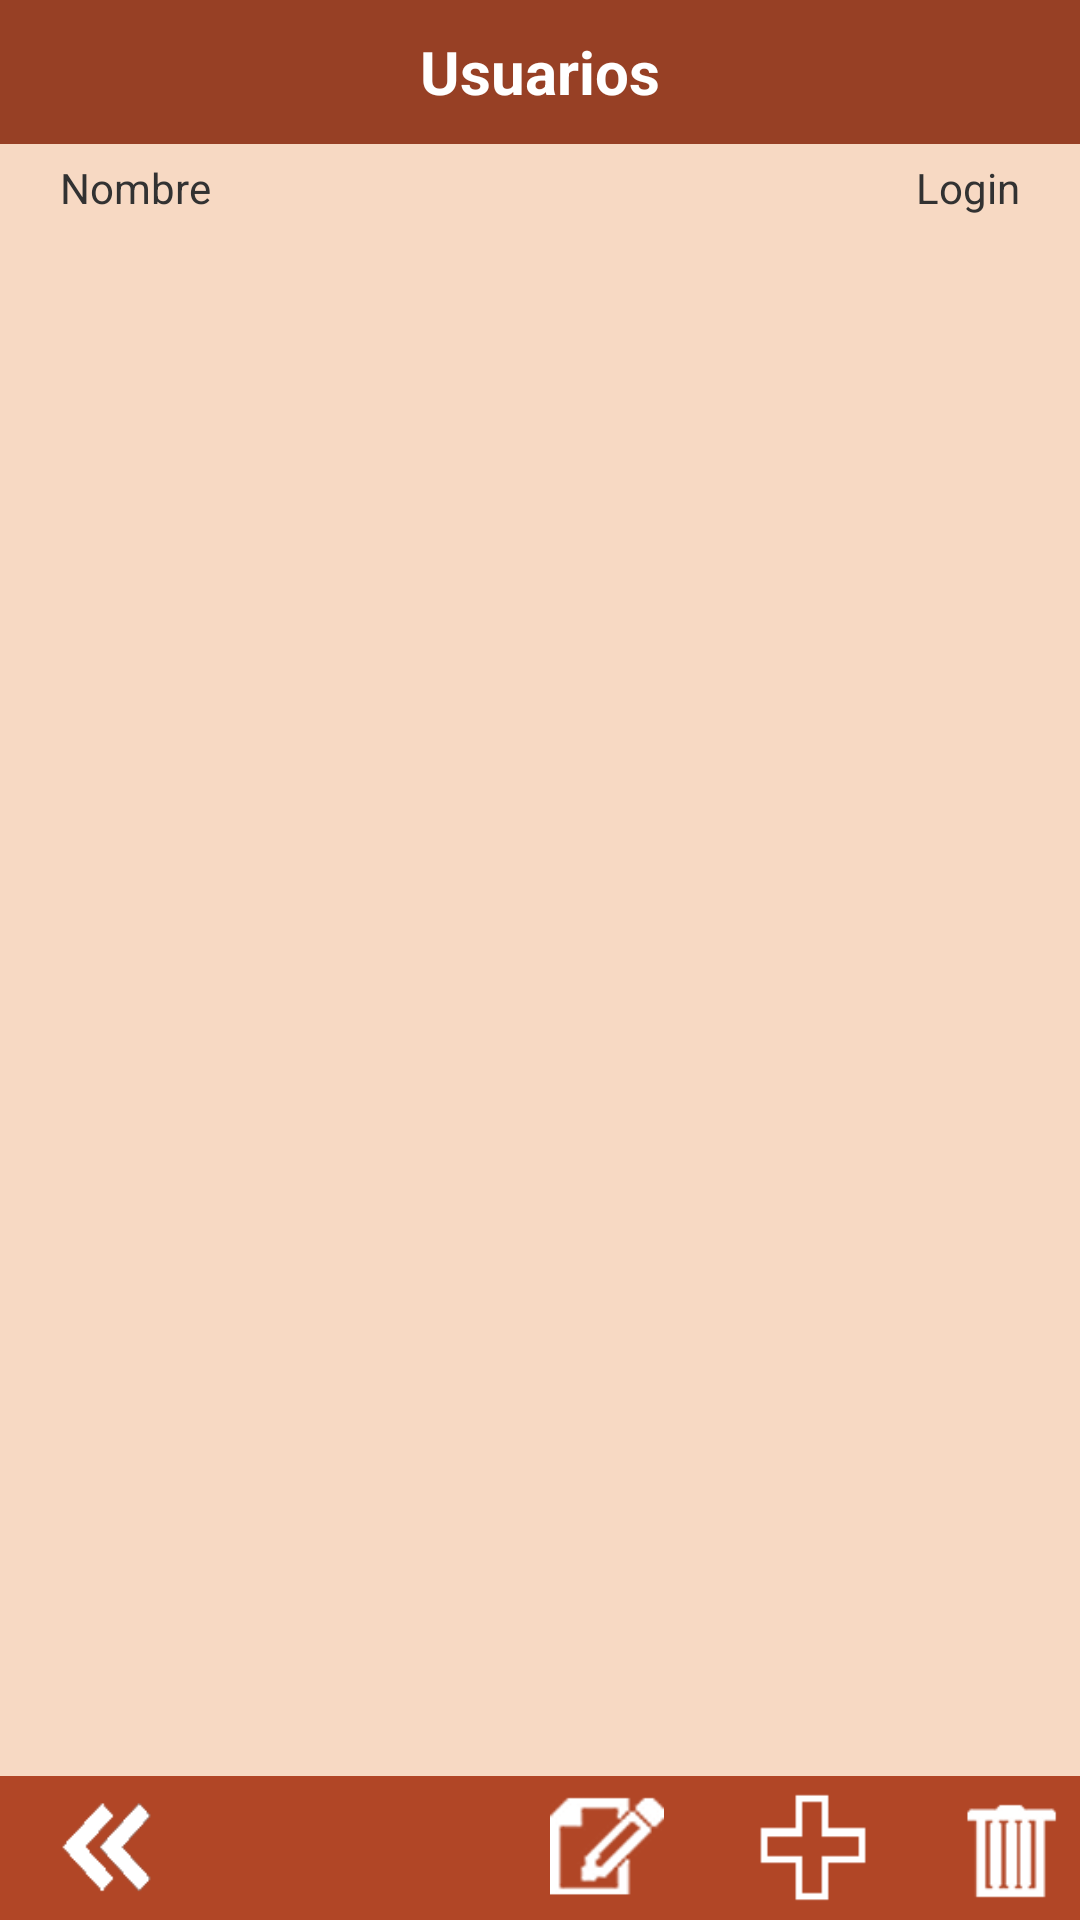

Where to tap for icons on this 1080 × 1920 app screen, as point (x, y):
add: point (813, 1847)
arr prev: point (106, 1847)
del: point (1011, 1851)
edit: point (607, 1846)
